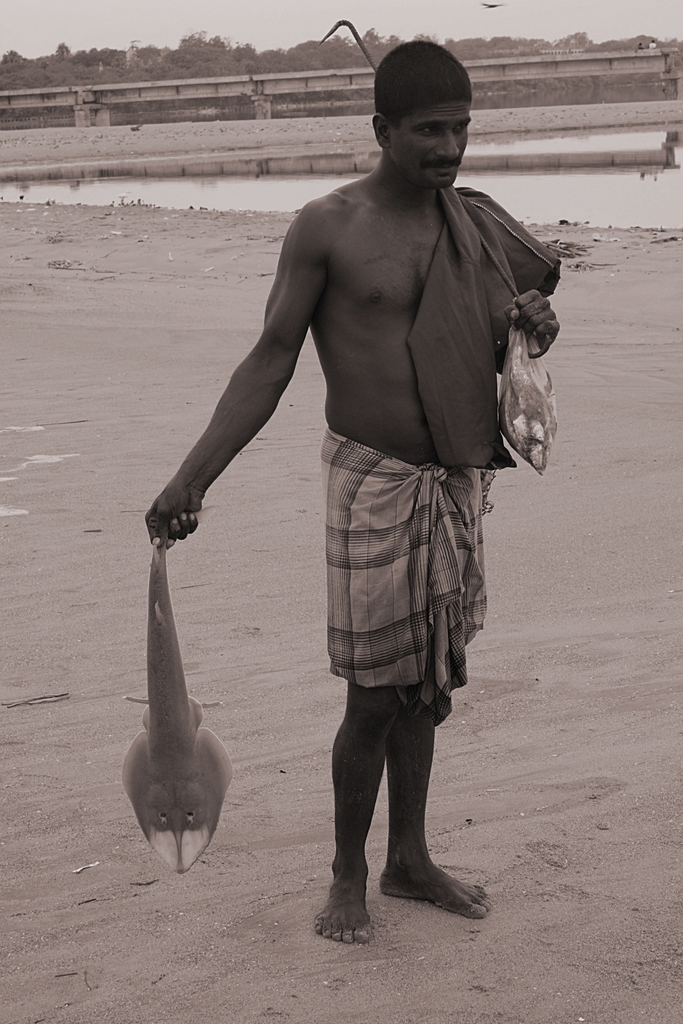Animal: (124, 503, 234, 870), (495, 308, 556, 471)
